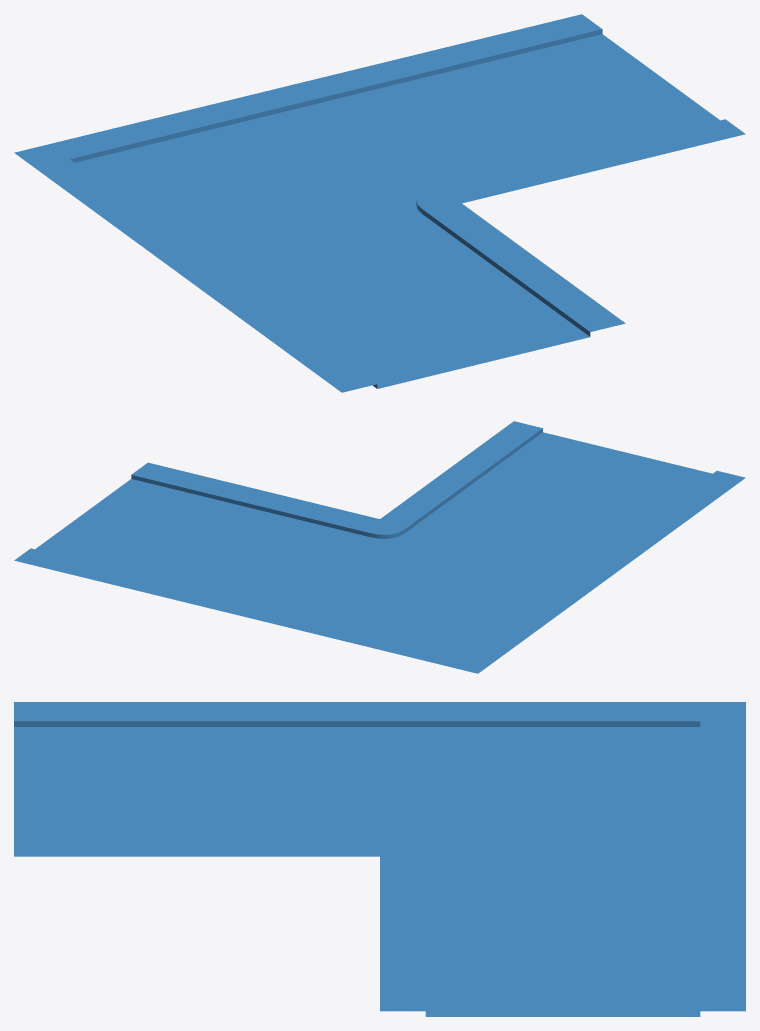
Rendered from Road_Cor.fbx.
The picture shows the model from 3 angles, top to bottom: view 1: azimuth 30°, elevation 25°; view 2: azimuth 150°, elevation 25°; view 3: azimuth 270°, elevation 25°; orthographic projection. The views are drawn at different scales.
Parts seen in each view (by area): view 1: Road_Cor; view 2: Road_Cor; view 3: Road_Cor.
Boxes of the visible parts, left/top/right/bottom form: Road_Cor: left=14, top=14, right=745, bottom=392; Road_Cor: left=14, top=421, right=745, bottom=673; Road_Cor: left=14, top=702, right=745, bottom=1016.
Size of the model in its own units: 1800 by 15 by 1800.
